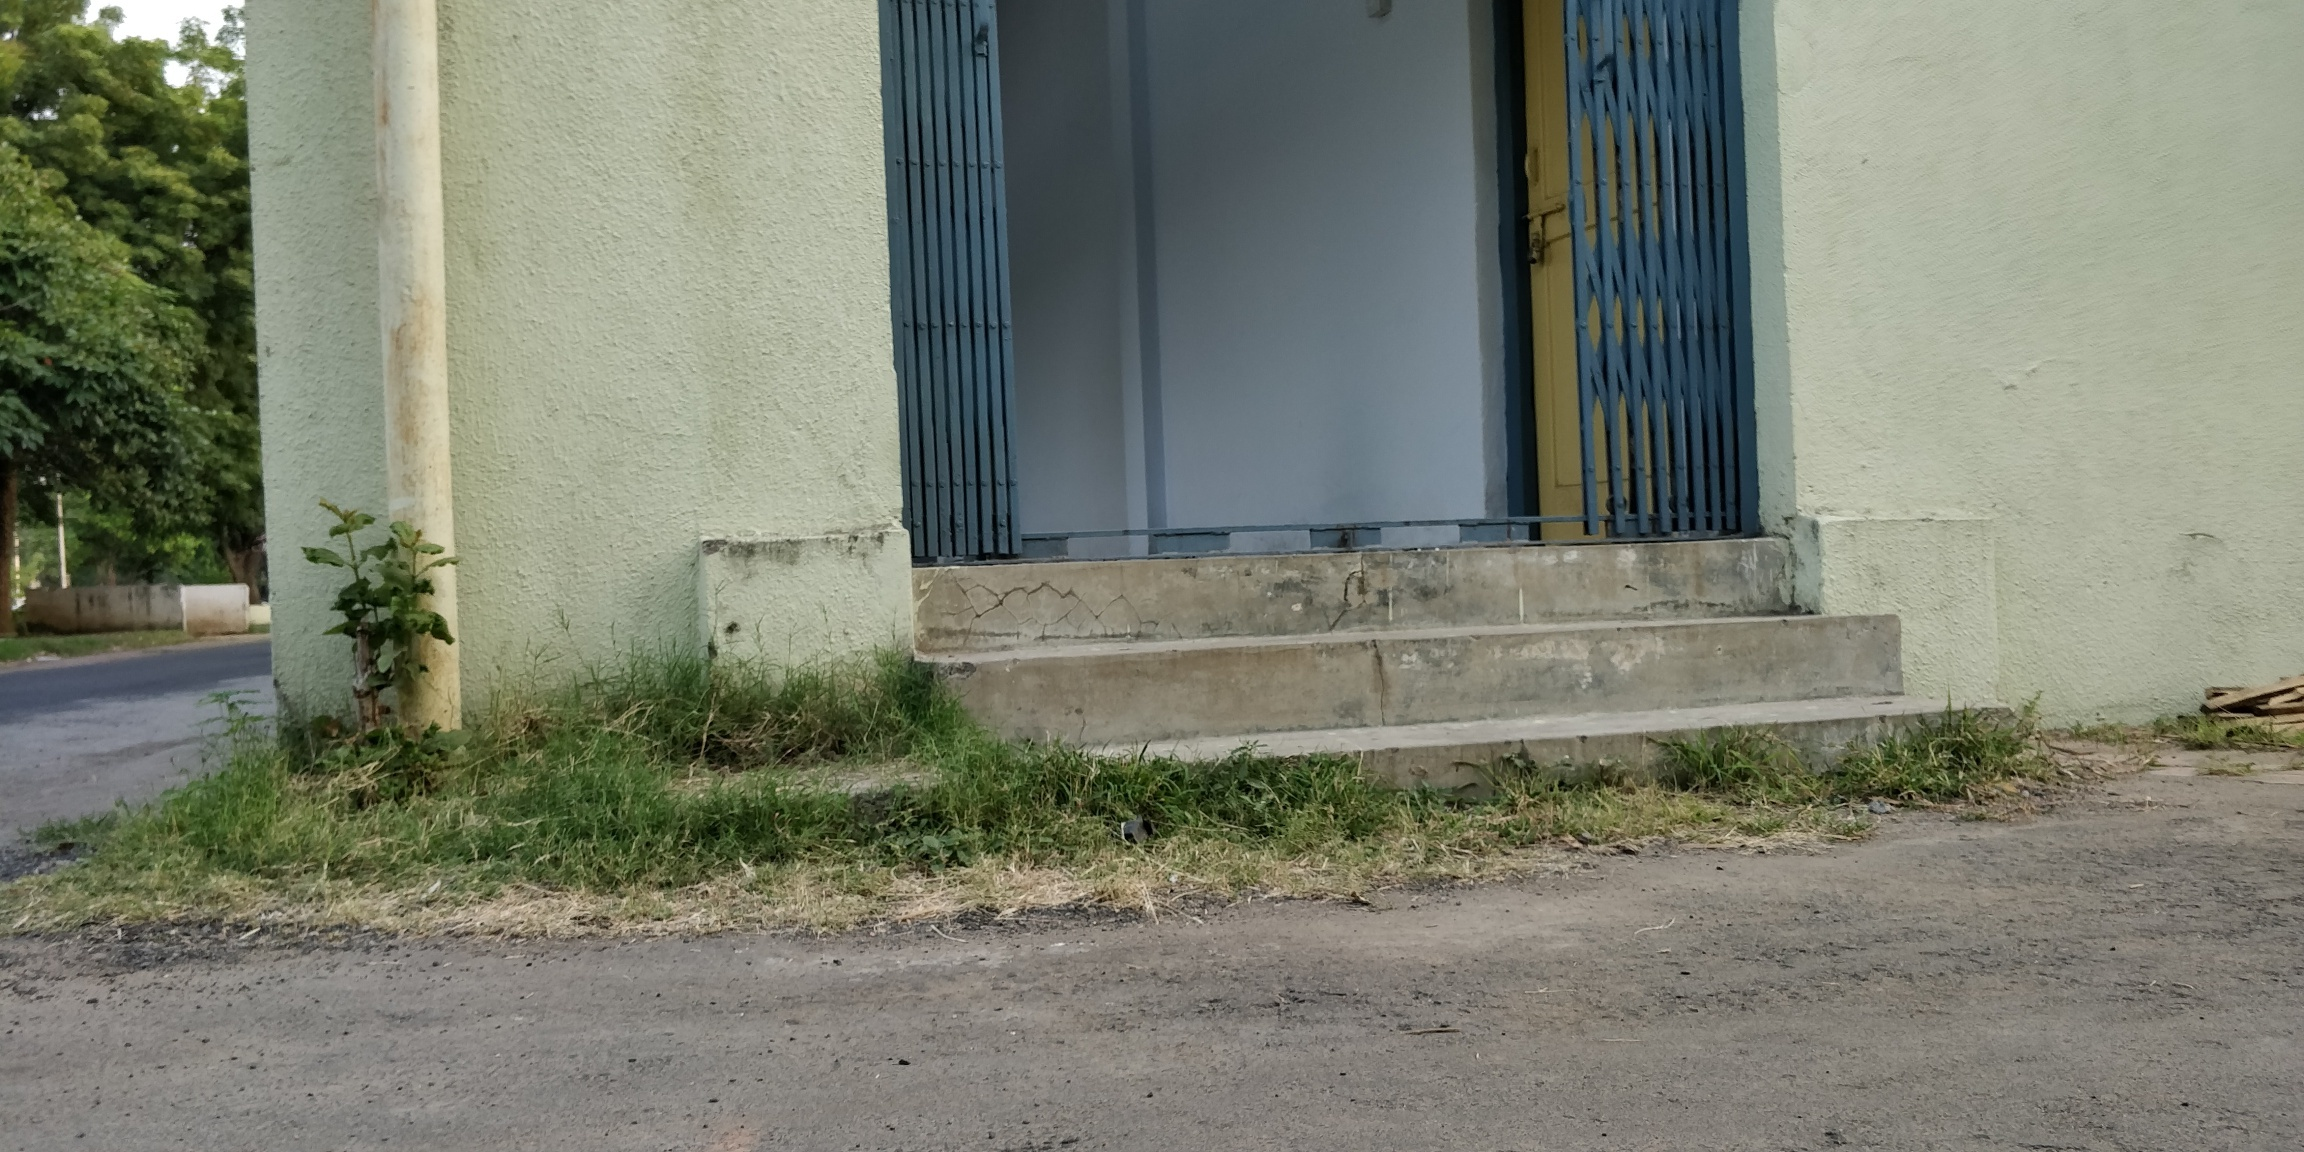stairs_up: (892, 561, 1990, 818)
